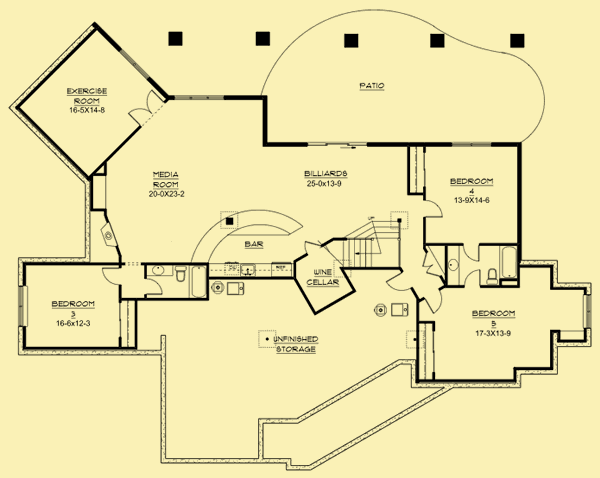door: (127, 87, 166, 126), (420, 192, 444, 222), (385, 270, 415, 293), (425, 288, 447, 315), (420, 253, 440, 282), (461, 241, 483, 264), (141, 276, 165, 297), (100, 265, 122, 286), (464, 266, 481, 290), (301, 237, 322, 255)
large sink: (485, 266, 502, 288), (174, 264, 187, 285)
small sink: (445, 243, 461, 287), (146, 263, 174, 275)
stairs: (339, 213, 403, 271), (414, 316, 441, 381), (115, 298, 140, 351)
tub: (189, 265, 209, 301), (499, 243, 518, 279)
windows: (302, 139, 372, 151), (15, 281, 31, 328), (172, 92, 228, 105), (579, 292, 596, 328), (451, 140, 493, 152)
